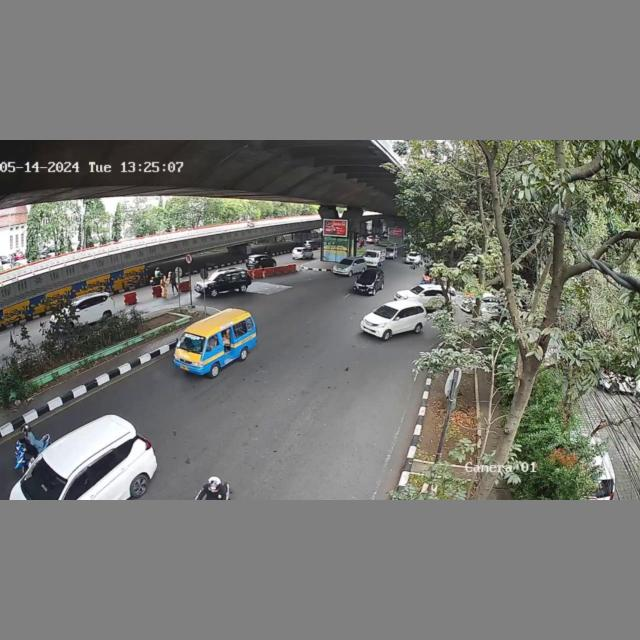windshield: (177, 332, 207, 354), (372, 306, 397, 318)
